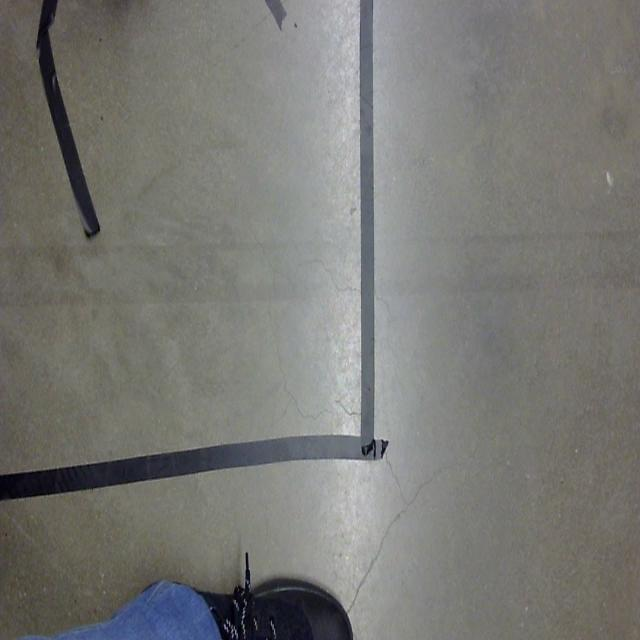tape: (0, 0, 410, 534), (24, 0, 112, 260), (240, 0, 296, 40)
